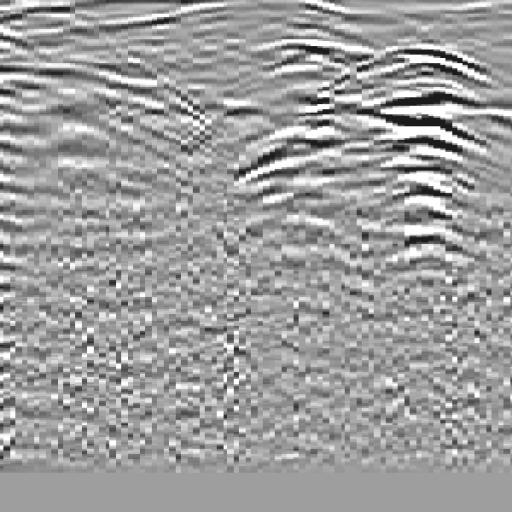metalic: (313, 27, 509, 314)
